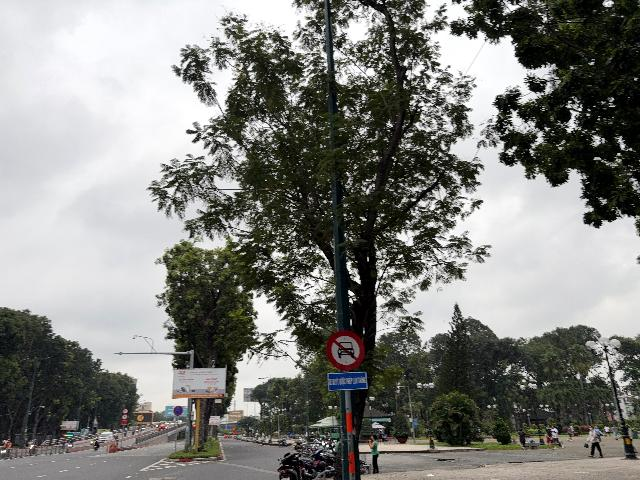cam-o-to: (326, 330, 364, 370)
